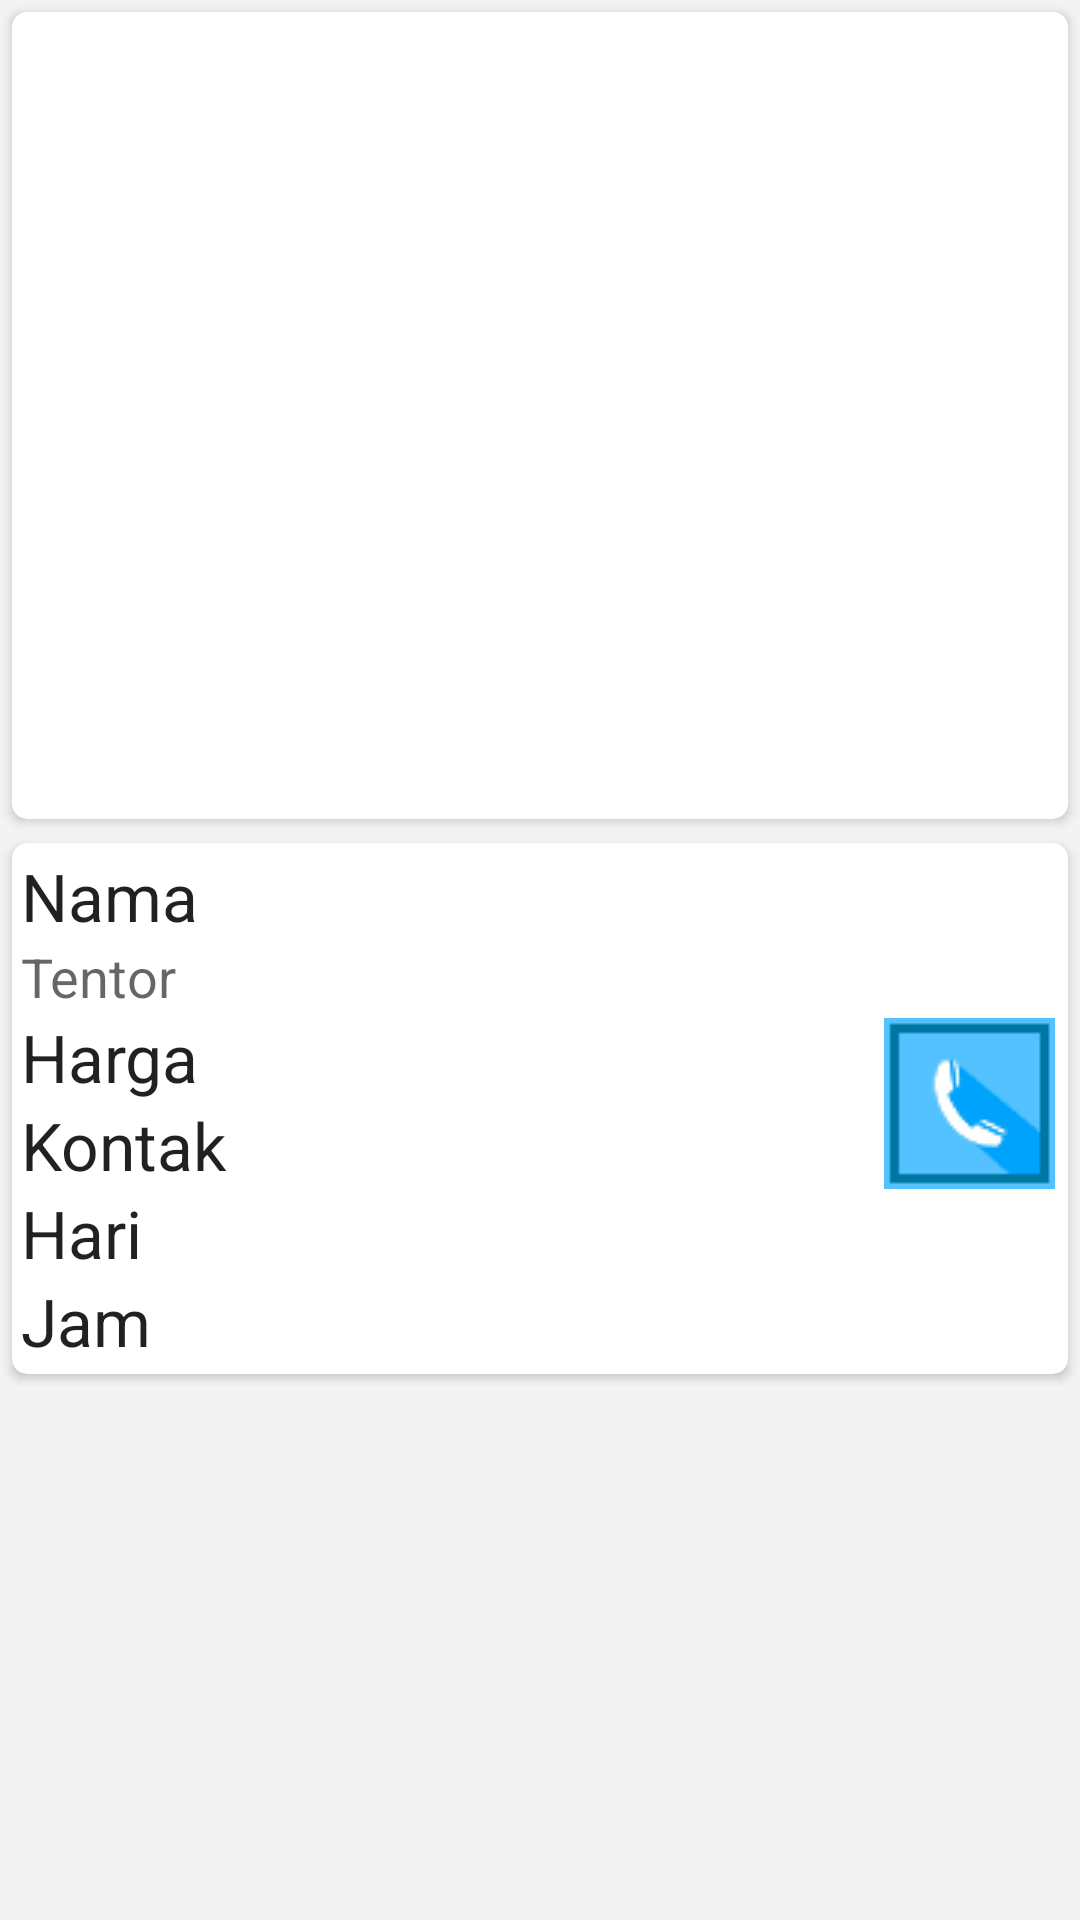

Where to tap for icons on this 1080w x 1920h app screen, as [x,y]:
call: [969,1103]
